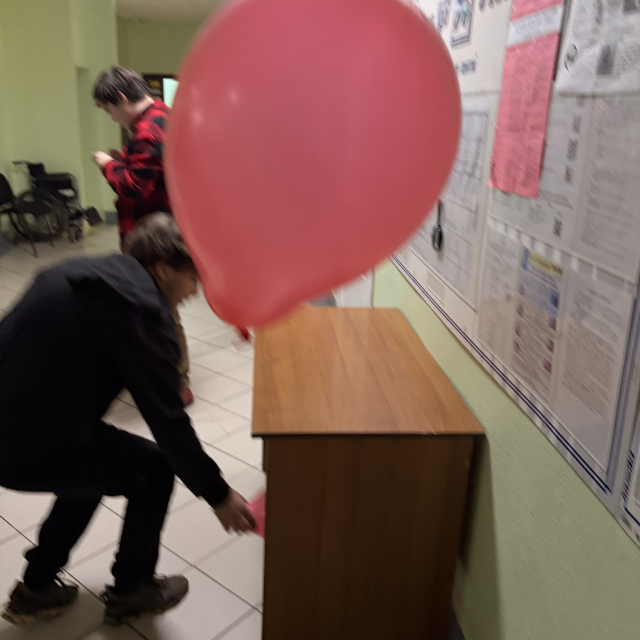balloon: (163, 0, 462, 343)
